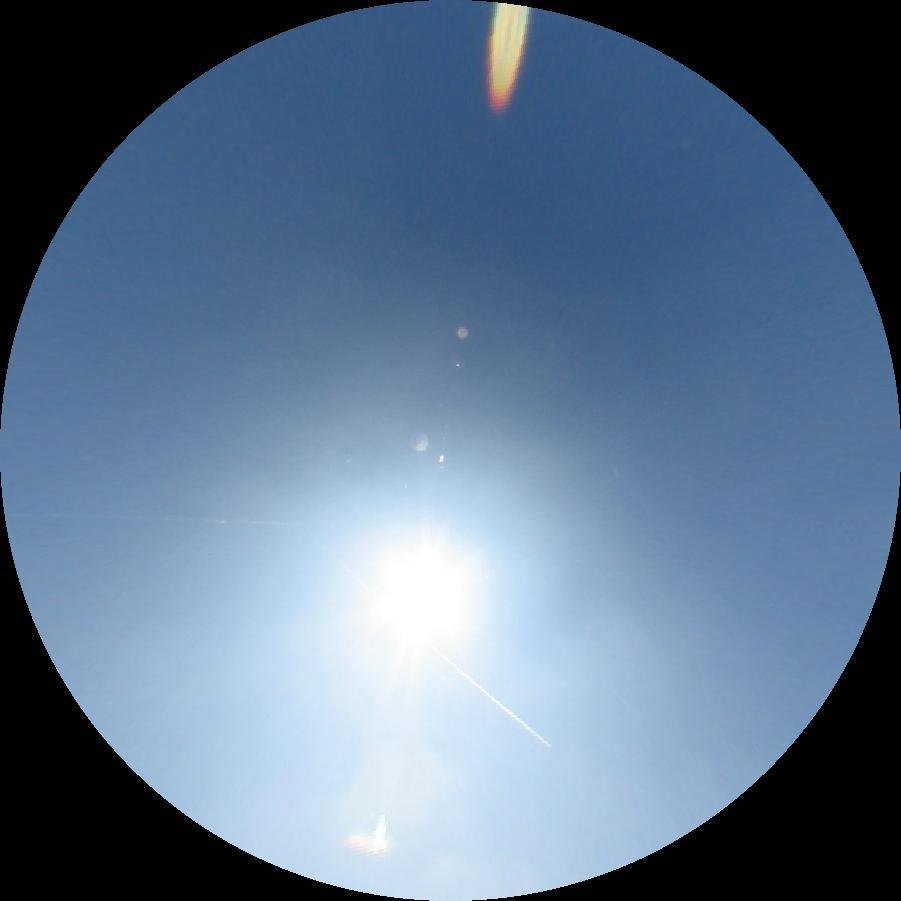contrail young: (432, 647, 551, 748)
parasite: (4, 511, 299, 526)
sun: (338, 516, 498, 676)
